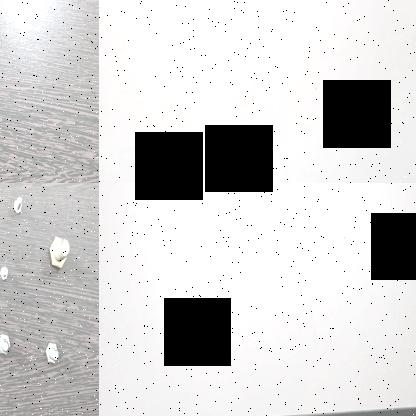Bolts: (43, 233, 70, 274), (40, 334, 64, 368), (9, 190, 27, 224), (0, 329, 13, 361), (0, 261, 10, 284)
